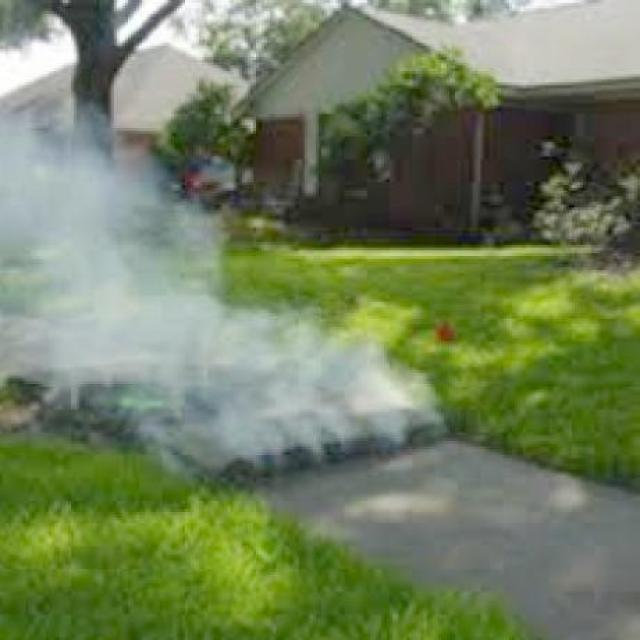Smoke: (0, 107, 233, 426), (212, 312, 416, 464)
